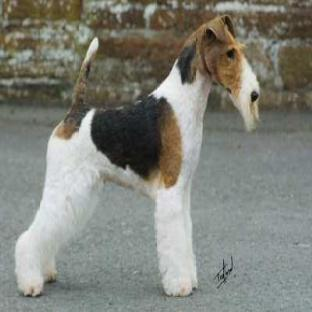Animal: (15, 15, 258, 296)
